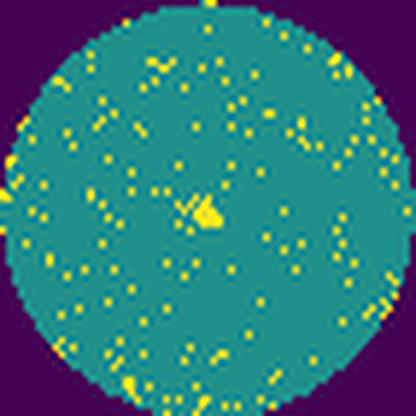Center: (194, 198, 224, 228)
